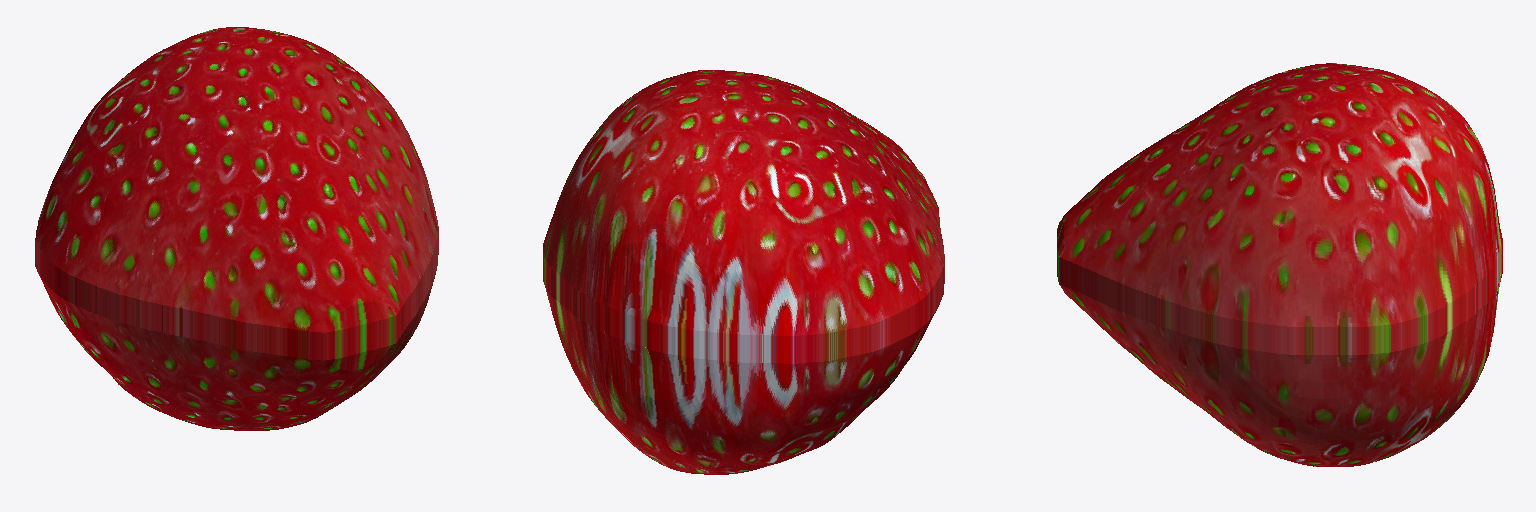
3 views of the same model, side by side, from view 1: azimuth 30°, elevation 25°; view 2: azimuth 150°, elevation 25°; view 3: azimuth 270°, elevation 25° (orthographic).
Parts seen in each view (by area): view 1: Grid; view 2: Grid; view 3: Grid.
Boxes of the visible parts, <box> form: Grid: <box>35,27,438,430</box>; Grid: <box>543,70,944,474</box>; Grid: <box>1057,63,1502,466</box>.
Size of the model in its own units: 1.57 by 1.6 by 1.74.
Materials: 1 (1 with a texture image).